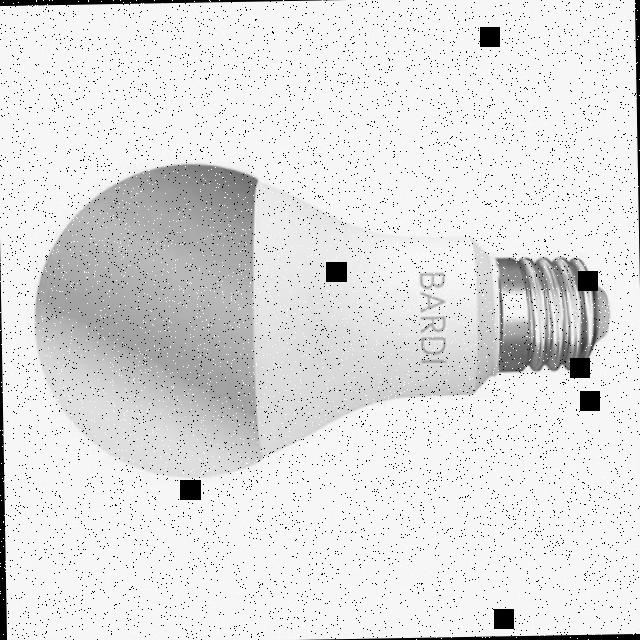light_bulb: (22, 128, 624, 504)
